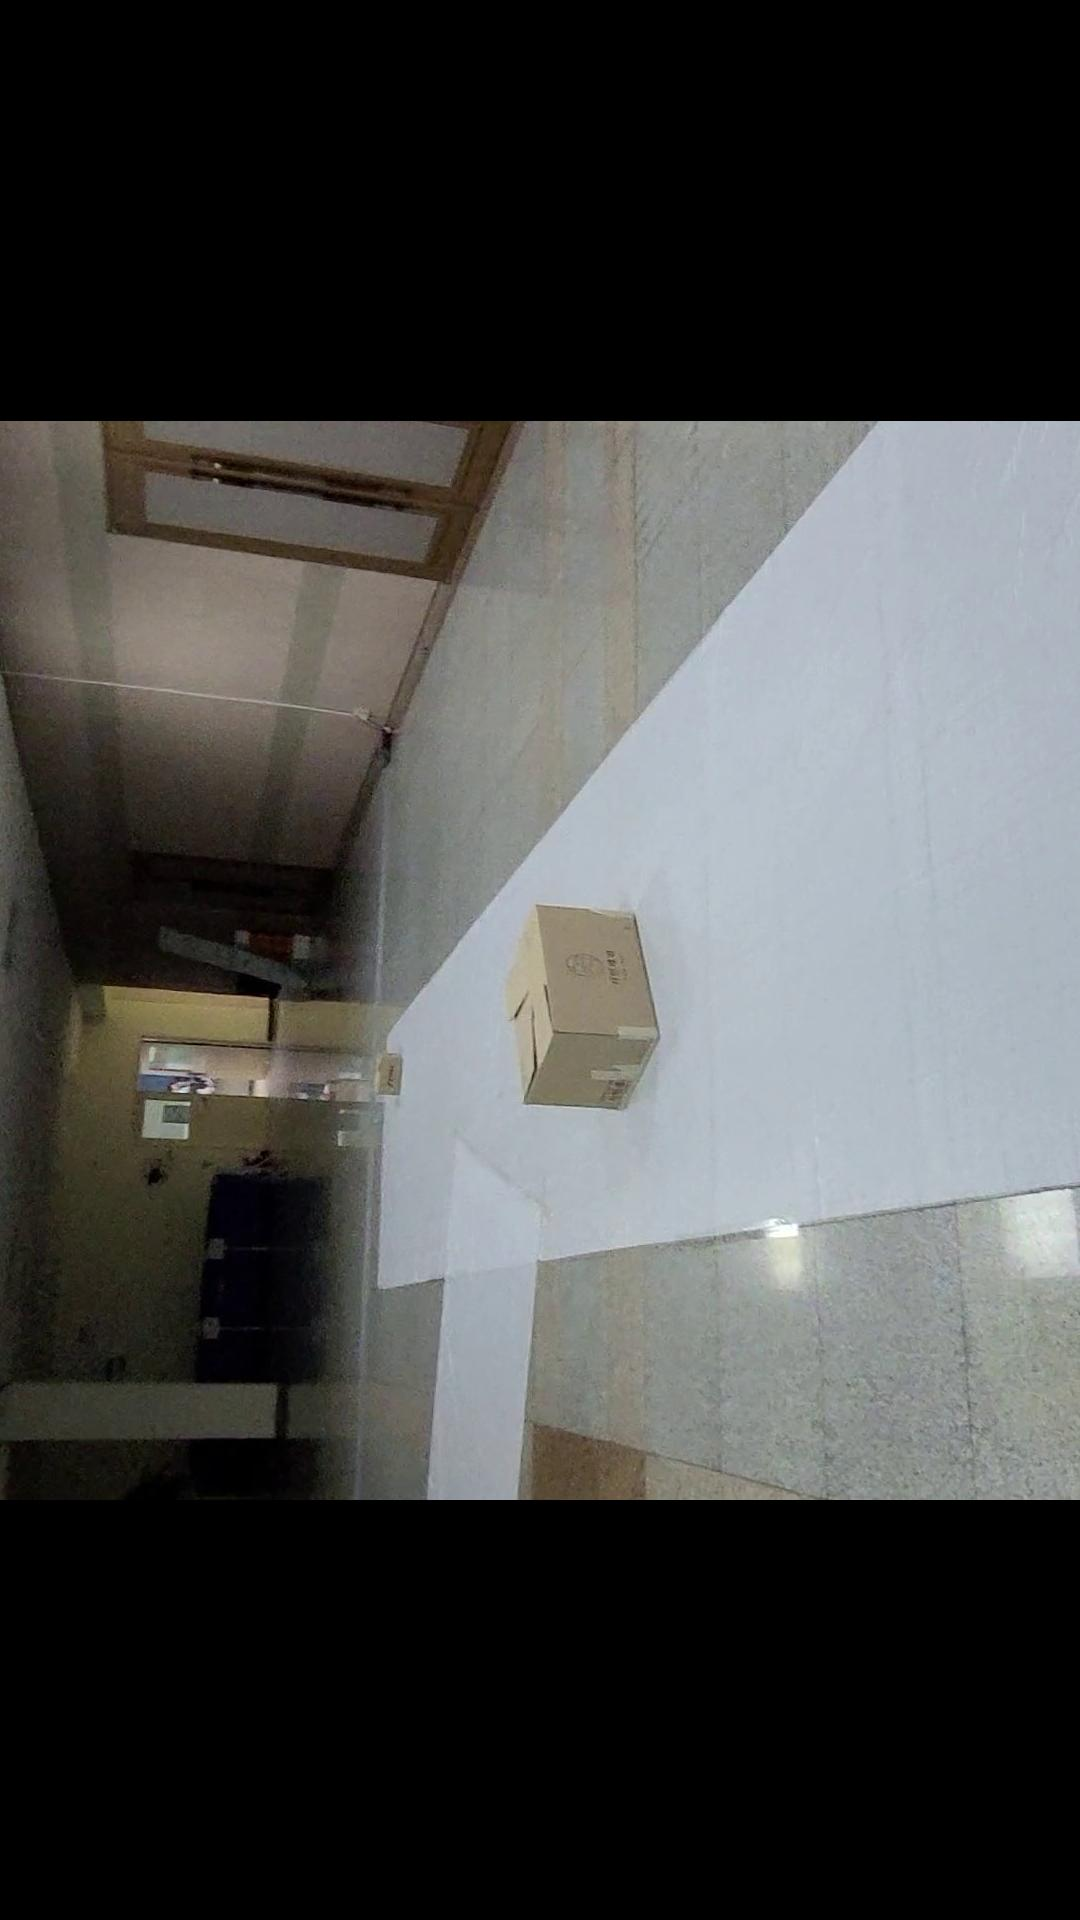Box: (480, 893, 682, 1127), (365, 1029, 427, 1112)
